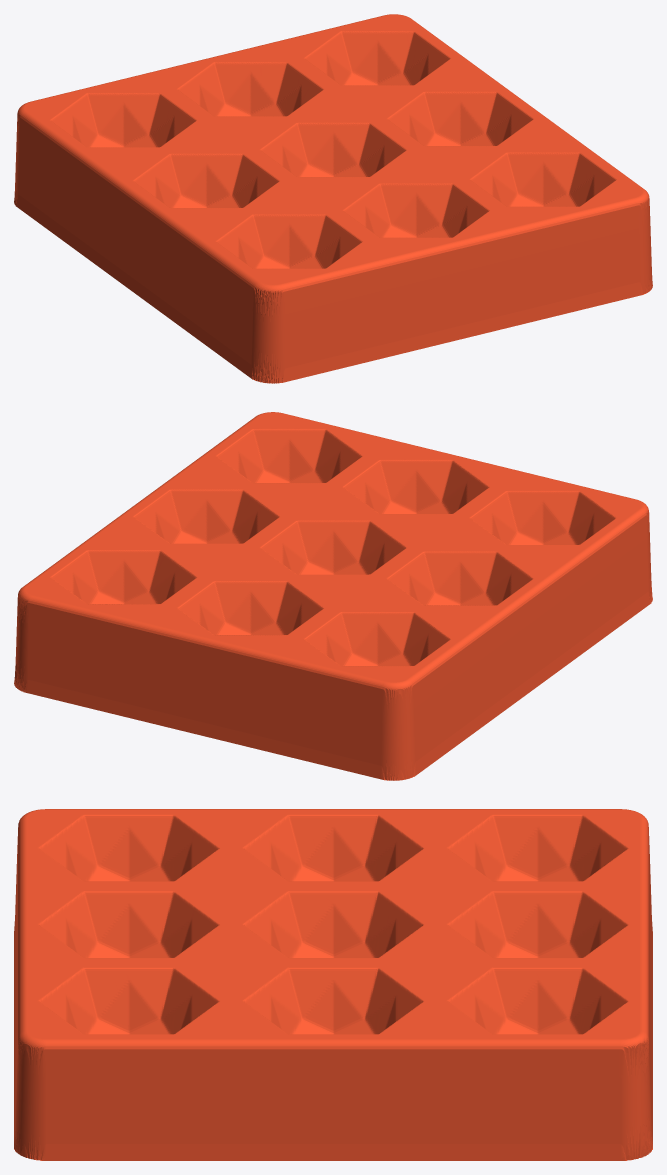
File: mold.glb
3 renders of one model, top to bottom at view 1: azimuth 30°, elevation 25°; view 2: azimuth 150°, elevation 25°; view 3: azimuth 270°, elevation 25°, orthographic. The views are drawn at different scales.
Parts seen in each view (by area): view 1: geometry_0; view 2: geometry_0; view 3: geometry_0.
Boxes of the visible parts, x1,y1,x2,y2 form: geometry_0: [14, 14, 652, 383]; geometry_0: [14, 412, 652, 780]; geometry_0: [14, 809, 652, 1160].
Size of the model in its own units: 0.1605 by 0.0362 by 0.1804.
